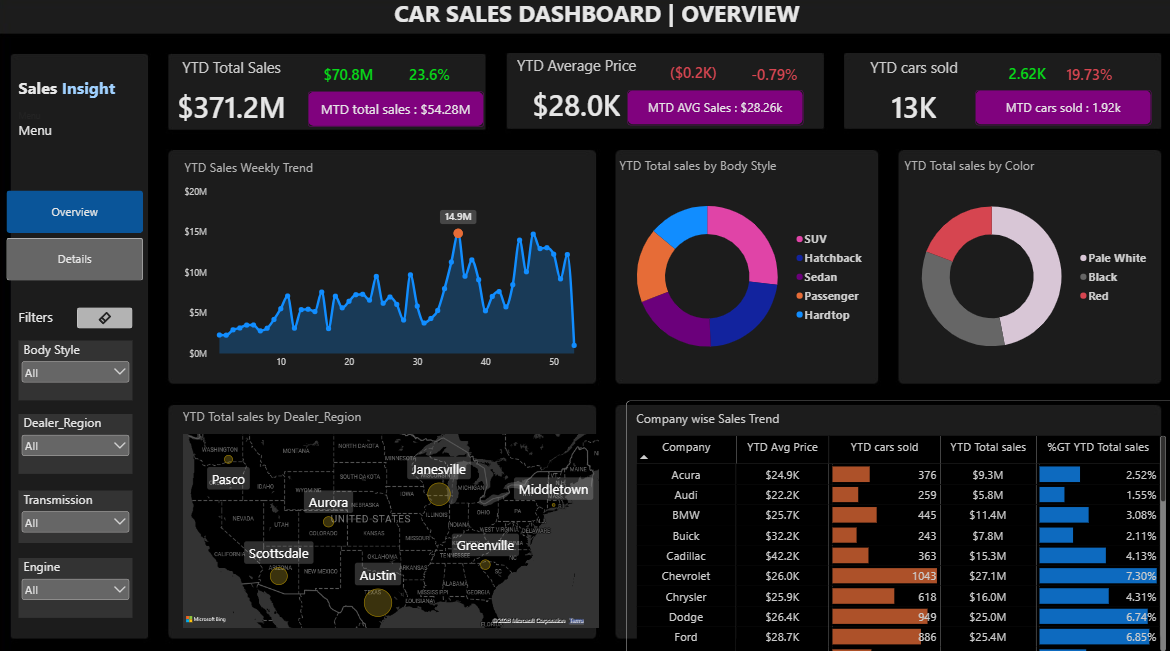

What the dashboard file says about the page in this screenshot:
{"tool":"powerbi","page":{"name":"Overview","canvas":[1920,1080],"ordinal":0},"visuals":[{"type":"cardVisual","title":"YTD Total Sales","fields":{"Data":["car_data.YTD Total sales"]},"box":[255.3,97.8,253.9,111],"z":0},{"type":"cardVisual","fields":{"Data":["car_data.Sales difference"]},"box":[508.2,97.8,131.2,54.9],"z":1000},{"type":"cardVisual","fields":{"Data":["car_data.YOY sales growth"]},"box":[639.4,97.8,131.2,54.9],"z":2000},{"type":"cardVisual","fields":{"Data":["car_data.MTD kpi"]},"box":[508.2,152.7,286.3,57.3],"z":3000},{"type":"cardVisual","title":"YTD Average Price","fields":{"Data":["car_data.YTD Average Price"]},"box":[816,95.4,253.9,111],"z":4000},{"type":"cardVisual","fields":{"Data":["car_data.Avg Price Difference"]},"box":[1068.9,95.4,131.2,54.9],"z":5000},{"type":"cardVisual","fields":{"Data":["car_data.YOY average Price growth"]},"box":[1200.1,97.8,131.2,54.9],"z":6000},{"type":"cardVisual","fields":{"Data":["car_data.MTD avg kpi"]},"box":[1025.9,150.3,286.3,57.3],"z":7000},{"type":"cardVisual","title":"YTD cars sold","fields":{"Data":["car_data.YTD cars sold"]},"box":[1364.7,97.8,253.9,111],"z":8000},{"type":"cardVisual","fields":{"Data":["car_data.cars sold difference"]},"box":[1617.7,97.8,119.3,52.5],"z":9000},{"type":"cardVisual","fields":{"Data":["car_data.yoy cars sold growth"]},"box":[1713.1,97.8,131.2,54.9],"z":10000},{"type":"cardVisual","fields":{"Data":["car_data.MTD carsssold kpi"]},"box":[1593.8,150.3,286.3,57.3],"z":11000},{"type":"areaChart","title":"YTD Sales Weekly Trend","fields":{"Category":["Calender Table.1 Week"],"Y":["Sum(car_data.Price)","car_data.MAx point"]},"box":[289.1,247.8,687,376.1],"z":12000},{"type":"donutChart","fields":{"Category":["car_data.Body_Style"],"Y":["car_data.YTD Total sales"]},"box":[997.5,247.5,435,375],"z":13000},{"type":"donutChart","fields":{"Y":["car_data.YTD Total sales"],"Category":["car_data.Color"]},"box":[1460,247.5,435,375],"z":14000},{"type":"map","fields":{"Category":["car_data.Dealer_Region"],"Size":["car_data.YTD Total sales"]},"box":[288.6,654.5,709.1,388.6],"z":15000},{"type":"tableEx","title":"Company wise Sales Trend","fields":{"Values":["car_data.Company","car_data.YTD Average Price","car_data.YTD cars sold","car_data.YTD Total sales","Divide(car_data.YTD Total sales, ScopedEval(car_data.YTD Total sales, []))"]},"box":[1025,655,895,425],"z":16000},{"type":"textbox","box":[515,0,925,95],"z":17000},{"type":"slicer","fields":{"Values":["car_data.Body_Style"]},"box":[37.5,557.5,185,97.5],"z":18000},{"type":"slicer","fields":{"Values":["car_data.Dealer_Region"]},"box":[37.5,677.5,185,97.5],"z":19000},{"type":"slicer","fields":{"Values":["car_data.Transmission"]},"box":[37.5,802.5,185,85],"z":20000},{"type":"slicer","fields":{"Values":["car_data.Engine"]},"box":[37.5,912.5,185,97.5],"z":21000},{"type":"textbox","box":[37.5,505,92.5,52.5],"z":22000},{"type":"textbox","box":[37.5,130,185,52.5],"z":23000},{"type":"textbox","box":[37.5,182.5,152.5,72.5],"z":24000},{"type":"pageNavigator","box":[17.5,315,222.5,147.5],"z":25000},{"type":"actionButton","box":[131.7,504.9,90.2,34.1],"z":26000}]}

Visuals, with their boxes on the page's 1920x1080 design canvas (x1, y1, x2, y2). These are canvas units, not pixel positions in the 1170x651 screenshot, which may show the page scaled, cropped or inside an application window:
"YTD Total Sales" cardVisual: BBox(255, 98, 509, 209)
cardVisual - car_data.Sales difference: BBox(508, 98, 639, 153)
cardVisual - car_data.YOY sales growth: BBox(639, 98, 771, 153)
cardVisual - car_data.MTD kpi: BBox(508, 153, 794, 210)
"YTD Average Price" cardVisual: BBox(816, 95, 1070, 206)
cardVisual - car_data.Avg Price Difference: BBox(1069, 95, 1200, 150)
cardVisual - car_data.YOY average Price growth: BBox(1200, 98, 1331, 153)
cardVisual - car_data.MTD avg kpi: BBox(1026, 150, 1312, 208)
"YTD cars sold" cardVisual: BBox(1365, 98, 1619, 209)
cardVisual - car_data.cars sold difference: BBox(1618, 98, 1737, 150)
cardVisual - car_data.yoy cars sold growth: BBox(1713, 98, 1844, 153)
cardVisual - car_data.MTD carsssold kpi: BBox(1594, 150, 1880, 208)
"YTD Sales Weekly Trend" areaChart: BBox(289, 248, 976, 624)
donutChart - car_data.Body_Style x car_data.YTD Total sales: BBox(998, 248, 1432, 622)
donutChart - car_data.YTD Total sales x car_data.Color: BBox(1460, 248, 1895, 622)
map - car_data.Dealer_Region x car_data.YTD Total sales: BBox(289, 654, 998, 1043)
"Company wise Sales Trend" tableEx: BBox(1025, 655, 1920, 1080)
textbox: BBox(515, 0, 1440, 95)
slicer - car_data.Body_Style: BBox(38, 558, 222, 655)
slicer - car_data.Dealer_Region: BBox(38, 678, 222, 775)
slicer - car_data.Transmission: BBox(38, 802, 222, 888)
slicer - car_data.Engine: BBox(38, 912, 222, 1010)
textbox: BBox(38, 505, 130, 558)
textbox: BBox(38, 130, 222, 182)
textbox: BBox(38, 182, 190, 255)
pageNavigator: BBox(18, 315, 240, 462)
actionButton: BBox(132, 505, 222, 539)
